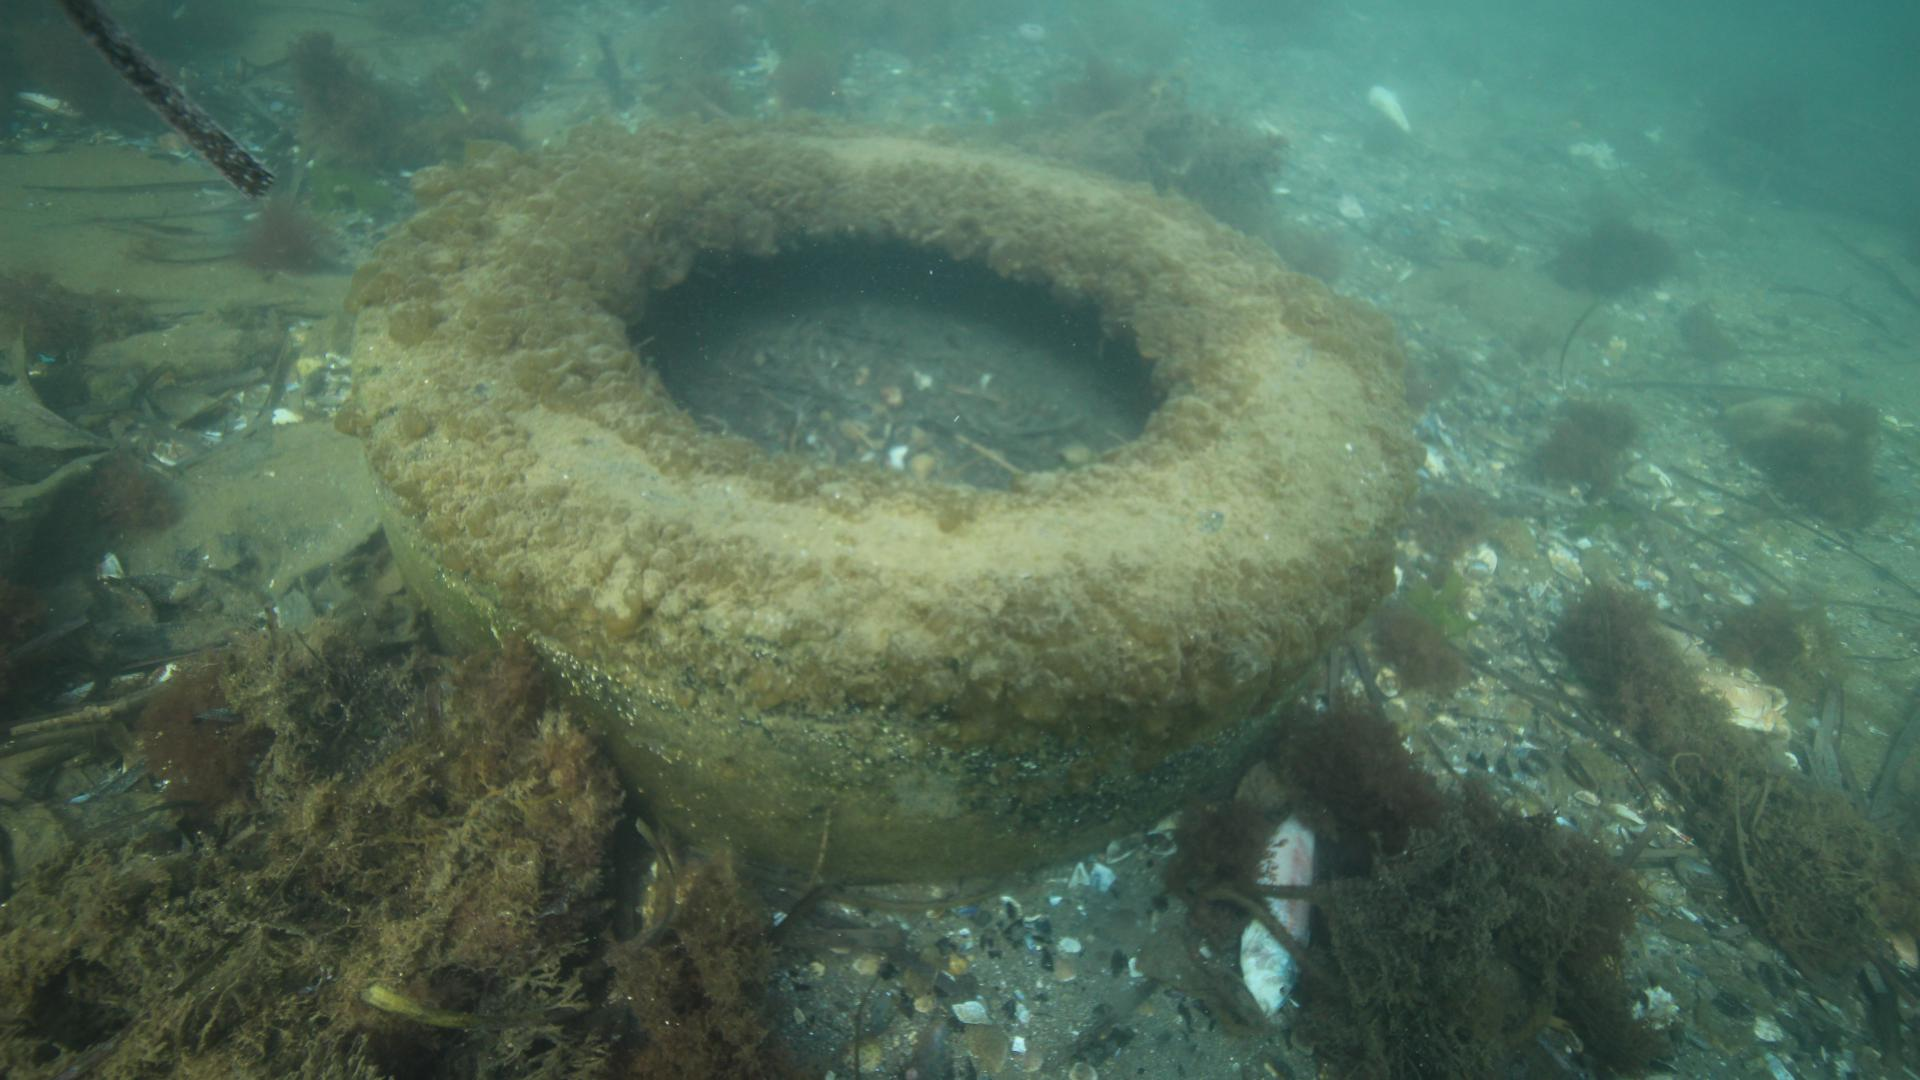tire: (351, 108, 1410, 882)
